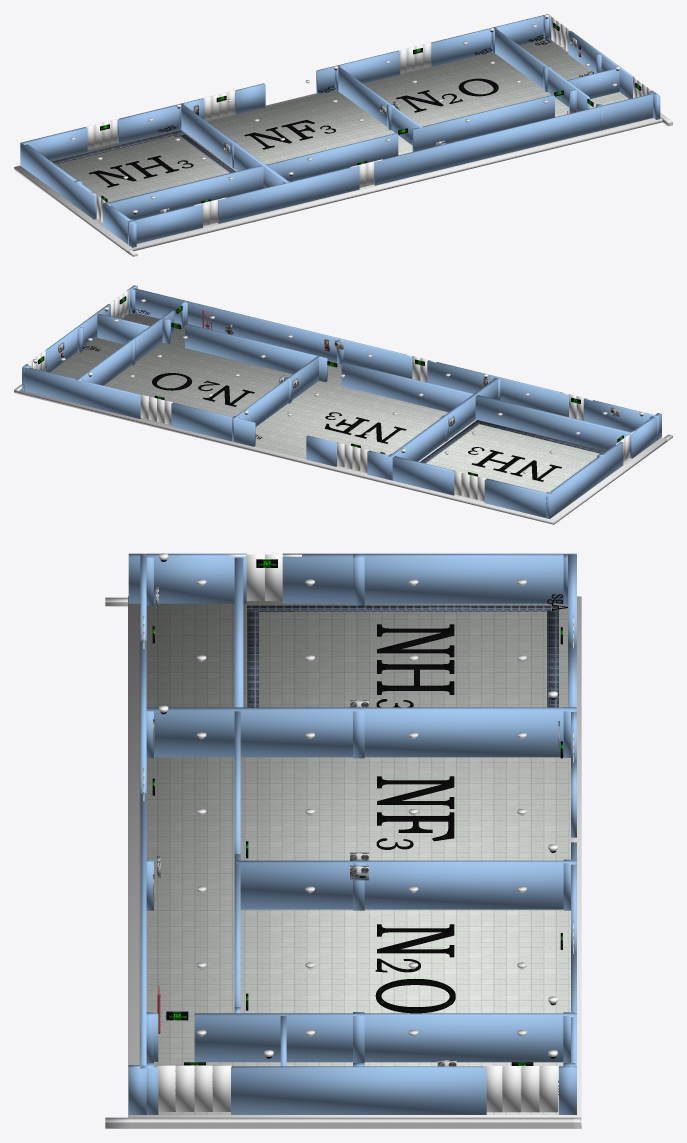
The model's file is sg_1f_mini.gltf.
The picture shows the model from 3 angles, top to bottom: view 1: azimuth 30°, elevation 25°; view 2: azimuth 150°, elevation 25°; view 3: azimuth 270°, elevation 25°; orthographic projection. The views are drawn at different scales.
Parts seen in each view (by area): view 1: sg_dimian, sg_qiang_10, sg_waiguan_1_1, sg_qiang_11, sg_qiang_23, sg_qiang_21, sg_qiang_22, sg_qiang_5, sg_qiang_16, sg_qiang_13, sg_qiang_17, sg_qiang_15 (+13 smaller); view 2: sg_dimian, sg_qiang_10, sg_waiguan_1_1, sg_qiang_23, sg_qiang_21, sg_qiang_22, sg_qiang_5, sg_qiang_11, sg_qiang_16, sg_qiang_17, sg_qiang, sg_qiang_13 (+15 smaller); view 3: sg_dimian, sg_qiang_16, sg_qiang_13, sg_qiang_15, sg_qiang_17, sg_qiang_7, sg_waiguan_1_1, sg_waiguan_1_2, sg_qiang_18, NH3, NF3, xiashuidao_4 (+18 smaller).
Boxes of the visible parts, x1,y1,x2,y2 form: sg_dimian: (22,39,653,246); sg_qiang_10: (374,93,653,185); sg_waiguan_1_1: (14,40,662,252); sg_qiang_11: (217,166,359,223); sg_qiang_23: (108,165,263,219); sg_qiang_21: (412,94,554,151); sg_qiang_22: (266,133,398,181); sg_qiang_5: (431,15,543,66); sg_qiang_16: (179,103,288,188); sg_qiang_13: (492,27,589,111); sg_qiang_17: (20,142,97,219); sg_qiang_15: (336,65,422,144); sg_dimian: (50,313,658,518); sg_qiang_10: (133,288,412,378); sg_waiguan_1_1: (14,314,667,524); sg_qiang_23: (475,395,630,451); sg_qiang_21: (185,324,327,382); sg_qiang_22: (341,362,473,412); sg_qiang_5: (22,367,140,418); sg_qiang_11: (427,360,568,416); sg_qiang_16: (389,378,499,480); sg_qiang_17: (546,441,623,518); sg_qiang: (171,402,255,446); sg_qiang_13: (76,310,174,385); sg_dimian: (139,601,573,1114); sg_qiang_16: (146,707,576,757); sg_qiang_13: (194,1013,576,1062); sg_qiang_15: (236,860,576,909); sg_qiang_17: (282,553,576,603); sg_qiang_7: (231,1066,486,1114); sg_waiguan_1_1: (128,596,581,1128); sg_waiguan_1_2: (105,1117,581,1128); sg_qiang_18: (128,553,246,603); NH3: (377,624,454,694); NF3: (377,776,454,841); xiashuidao_4: (247,605,558,611).
Size of the model in its own units: 162 by 9.05 by 61.75.
49 materials, 40 textured.
